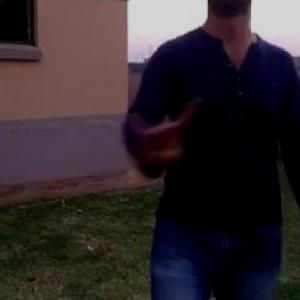takeoff-hand: (128, 85, 195, 169)
